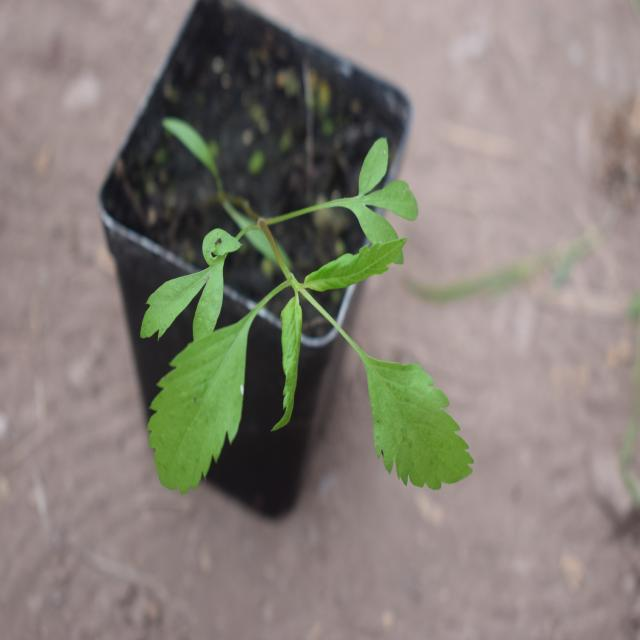Bidens pilosa: (143, 144, 473, 514)
